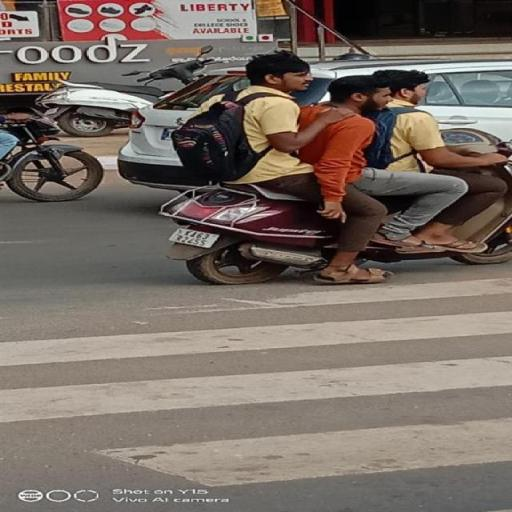tripple riding: (161, 48, 512, 197)
